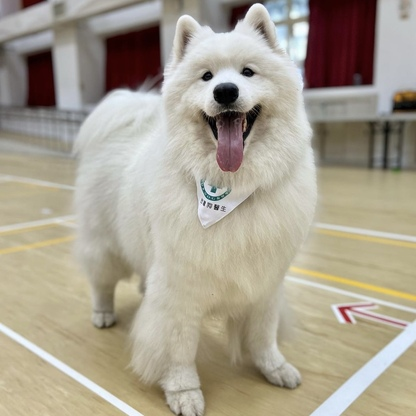samoyed: (63, 2, 333, 416)
